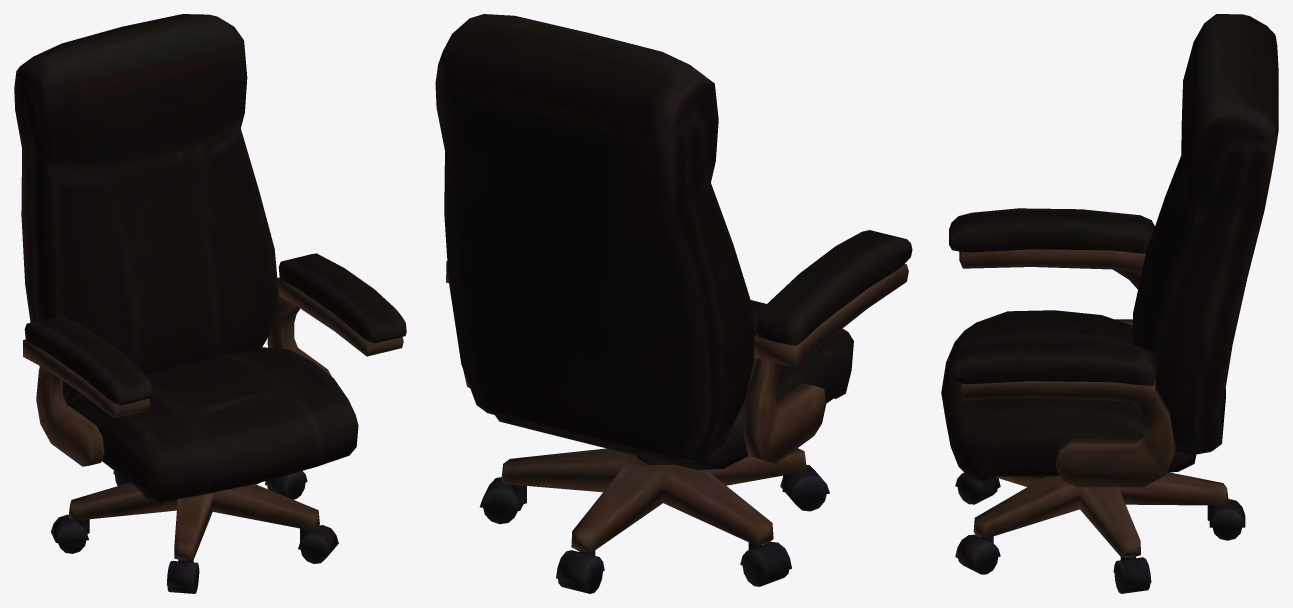
3 views of the same model, side by side, from view 1: azimuth 30°, elevation 25°; view 2: azimuth 150°, elevation 25°; view 3: azimuth 270°, elevation 25° (orthographic). The views are drawn at different scales.
Bounding box in the file's own units: 9.91 × 14.67 × 9.26.
1 material, 1 textured.
